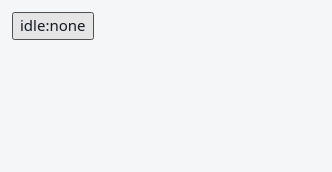
Scenario: hiding an abort-aware call restores the last settled status without a failure
Later steps or results of the test are not shown.
Click the button at (53, 26), box [12,12,94,40]
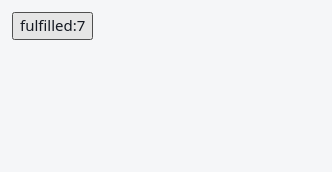
Expected: the button reads "fulfilled:7"
Click the button at (53, 26), box [12,12,93,40]
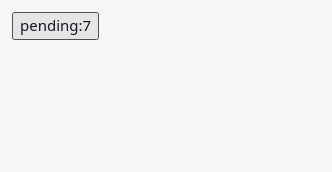
Expected: the button reads "pending:7", [12,12,99,40]
